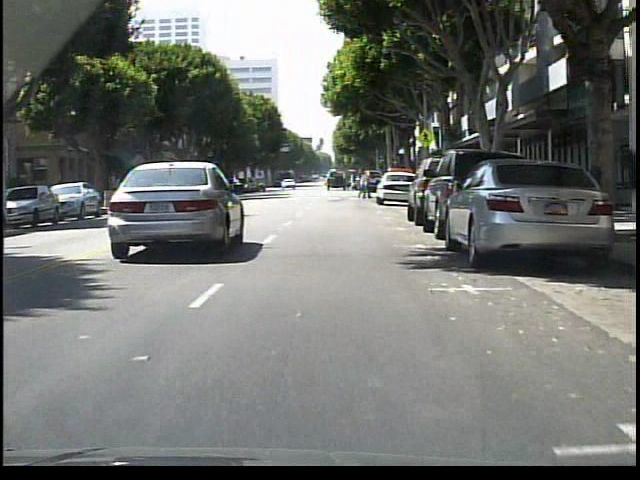person: (357, 171, 372, 199), (352, 170, 353, 190)
